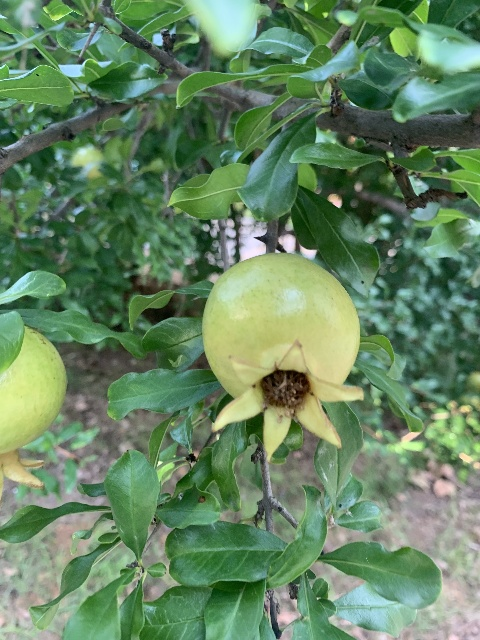mid-growth: (202, 252, 364, 462), (0, 326, 68, 501)
